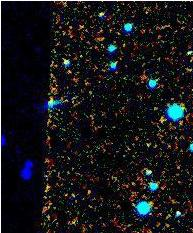star: (146, 104, 176, 134)
